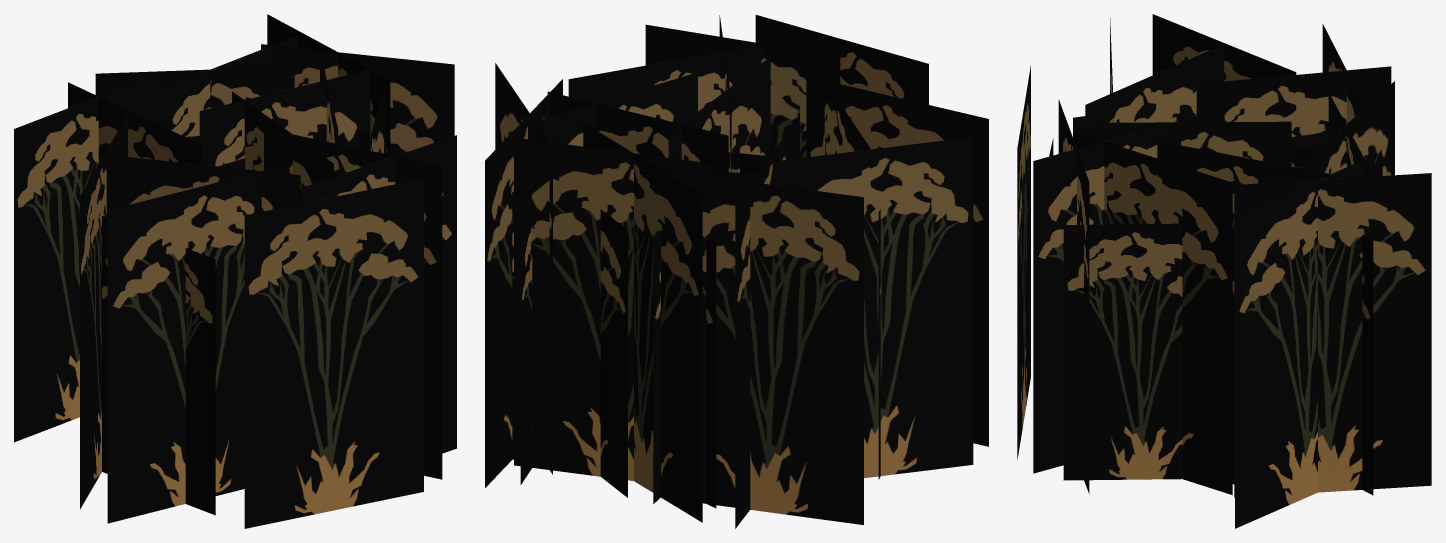
The model's file is space_weed_2.fbx.
3 views of the same model, side by side, from view 1: azimuth 30°, elevation 25°; view 2: azimuth 150°, elevation 25°; view 3: azimuth 270°, elevation 25° (orthographic). The views are drawn at different scales.
Parts seen in each view (by area): view 1: Cube_38; view 2: Cube_38; view 3: Cube_38.
Part boxes in pixels (left/top/right/bottom): Cube_38: left=14, top=14, right=456, bottom=528; Cube_38: left=485, top=15, right=988, bottom=528; Cube_38: left=1017, top=14, right=1431, bottom=528.
Bounding box in the file's own units: 83.58 × 60.22 × 72.3.
Materials: 1 (1 with a texture image).
